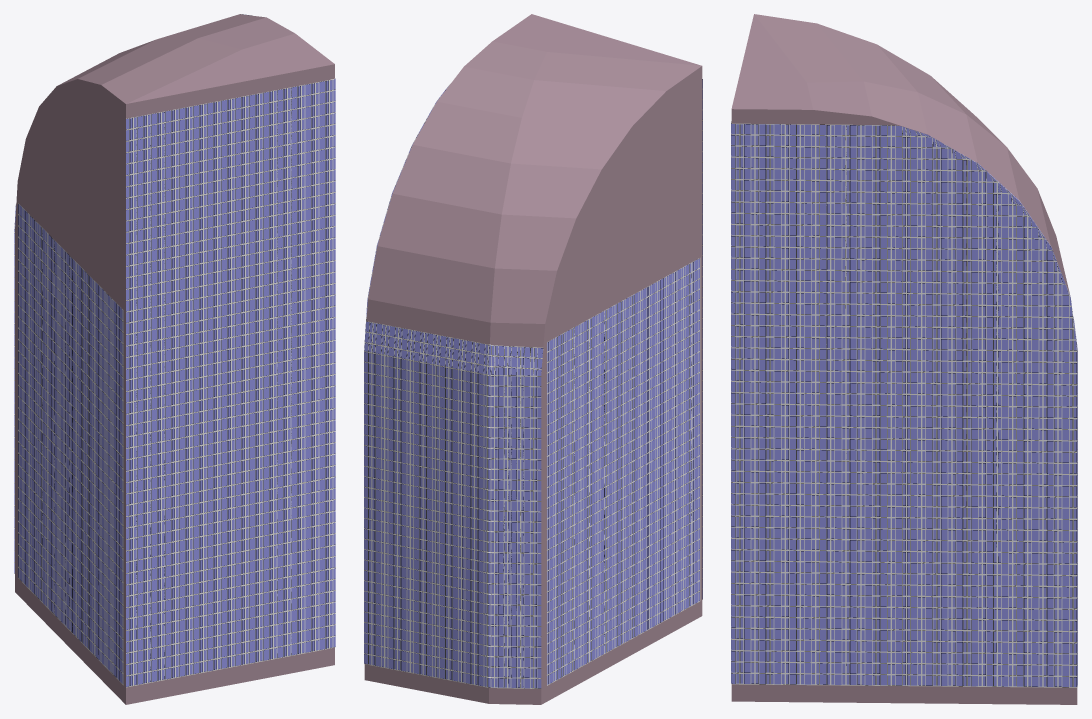
Rendered from 1WestminsterRoad.fbx.
3 views of the same model, side by side, from view 1: azimuth 30°, elevation 25°; view 2: azimuth 150°, elevation 25°; view 3: azimuth 270°, elevation 25° (orthographic). The views are drawn at different scales.
Visible parts, largest first — view 1: 1WestminsterRoad; view 2: 1WestminsterRoad; view 3: 1WestminsterRoad.
Part boxes in pixels (<box>): 1WestminsterRoad: <box>14,14,335,704</box>; 1WestminsterRoad: <box>364,14,702,704</box>; 1WestminsterRoad: <box>731,14,1077,704</box>.
Size of the model in its own units: 3859 by 10776 by 5716.
